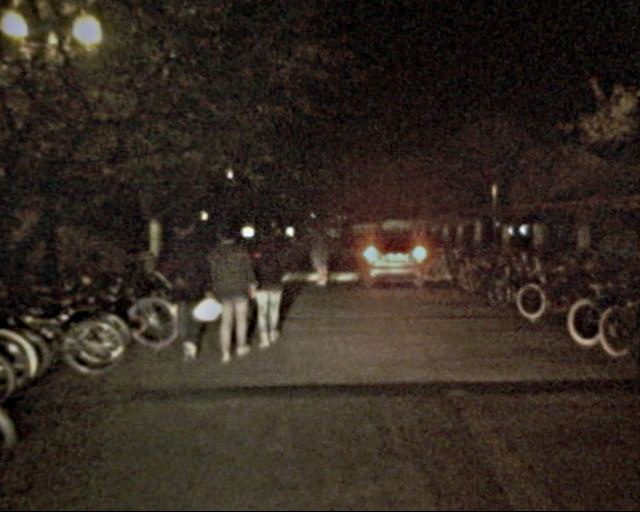person: (152, 217, 212, 364), (194, 219, 254, 366), (234, 224, 288, 355), (303, 223, 331, 291)
